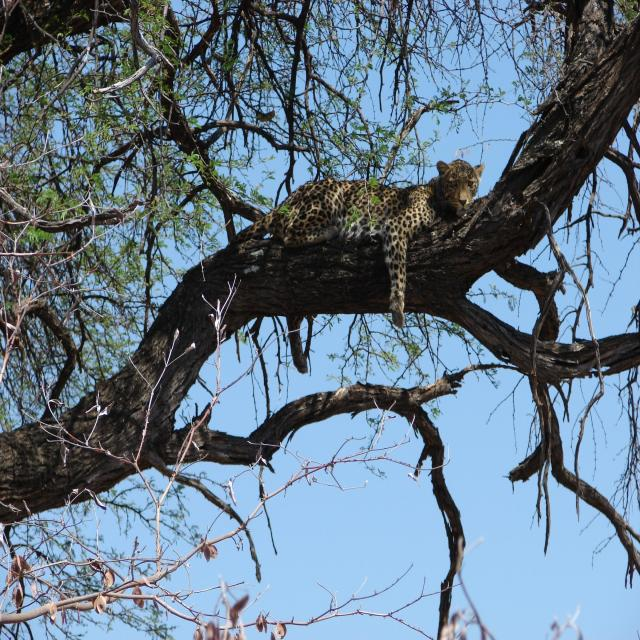Leopard: (230, 152, 472, 376)
